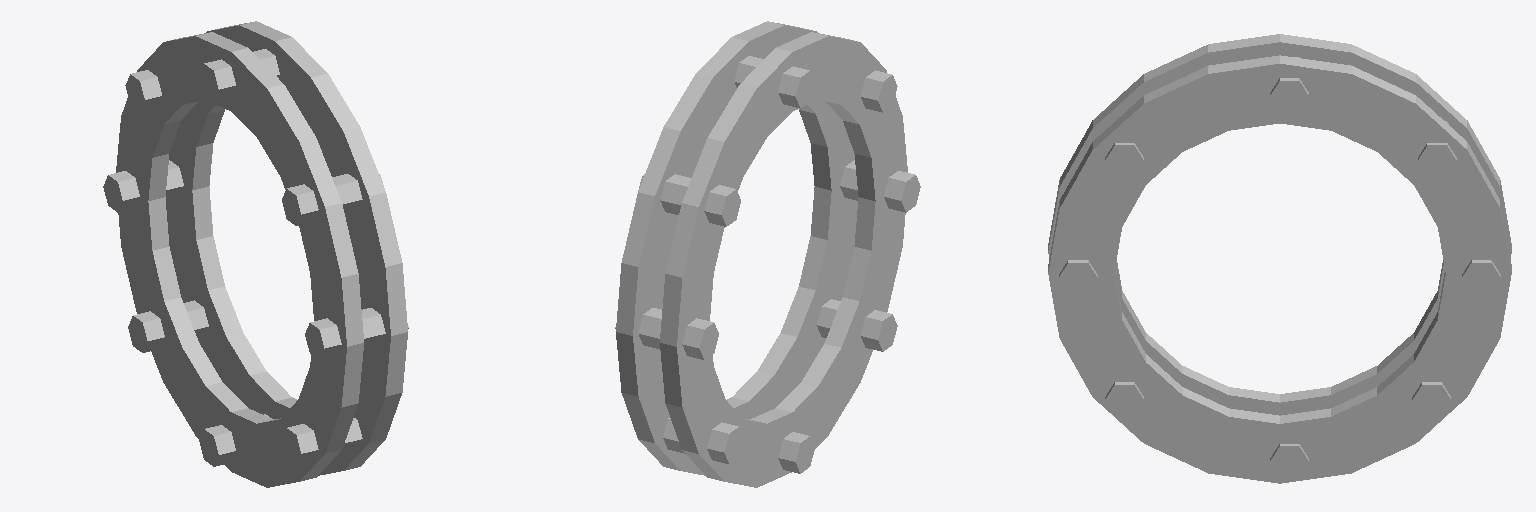
File: fengkou.obj
The picture shows the model from 3 angles: view 1: azimuth 30°, elevation 25°; view 2: azimuth 150°, elevation 25°; view 3: azimuth 270°, elevation 25°; orthographic projection.
Parts seen in each view (by area): view 1: __, __.1, ___1; view 2: __, __.1, ___1; view 3: __.1, __, ___2.
Part boxes in pixels (x1,y1,x2,y2): __: (116, 32, 363, 487); __.1: (109, 21, 408, 475); ___1: (103, 64, 323, 466); __: (660, 32, 907, 487); __.1: (615, 21, 914, 475); ___1: (700, 71, 920, 473); __.1: (1048, 55, 1511, 483); __: (1048, 34, 1511, 415); ___2: (1059, 81, 1500, 476).
Size of the model in its own units: 22.49 by 107 by 107.